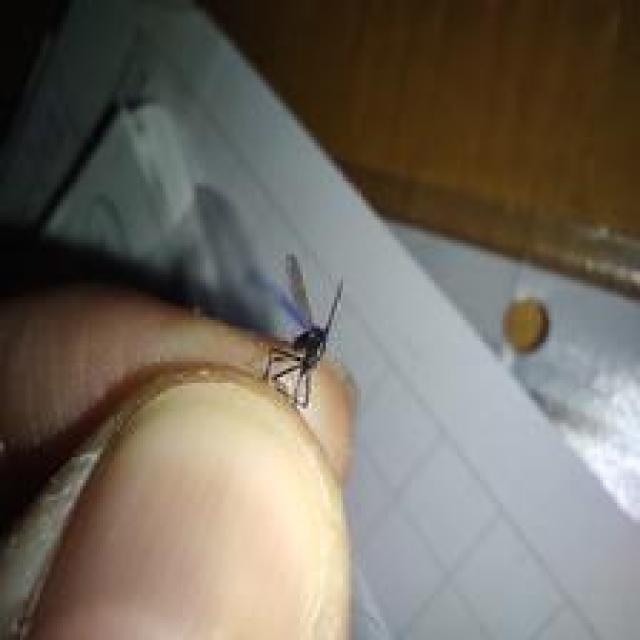Aedes albopictus: (259, 252, 344, 412)
